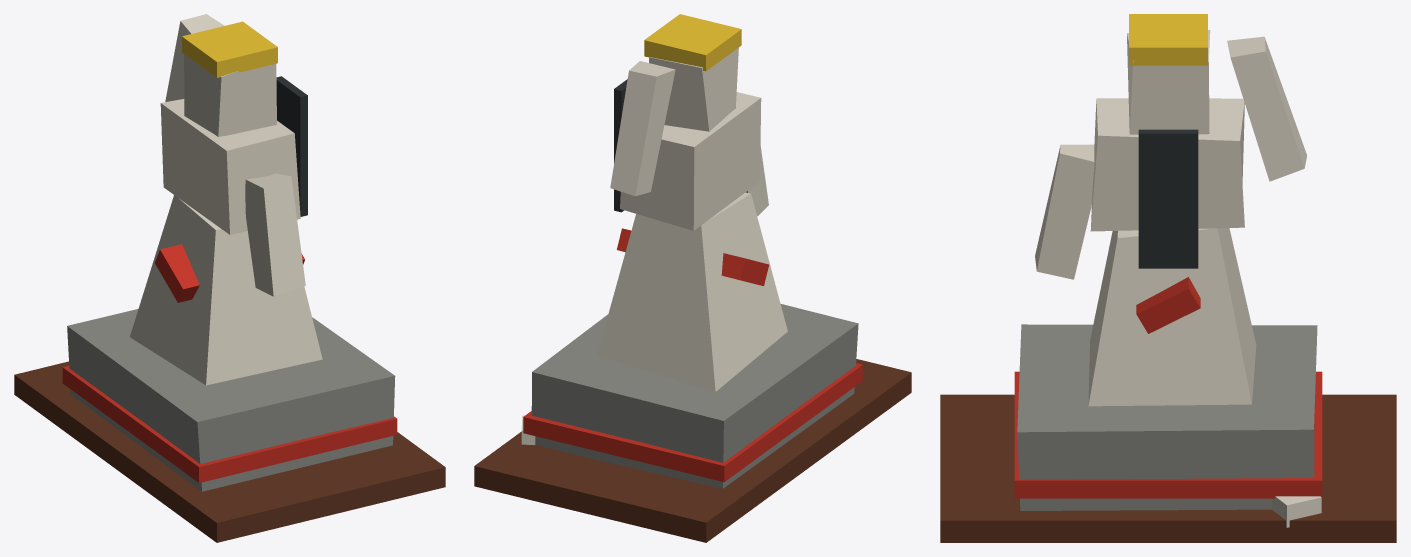
Rendered from relic_statue.glb.
3 views of the same model, side by side, from view 1: azimuth 30°, elevation 25°; view 2: azimuth 150°, elevation 25°; view 3: azimuth 270°, elevation 25° (orthographic). The views are drawn at different scales.
Parts seen in each view (by area): view 1: relic_statue; view 2: relic_statue; view 3: relic_statue.
Part boxes in pixels (x1,y1,x2,y2): relic_statue: [14, 14, 445, 542]; relic_statue: [474, 14, 911, 542]; relic_statue: [940, 14, 1396, 542].
Bounding box in the file's own units: 0.6031 × 1 × 0.92.
